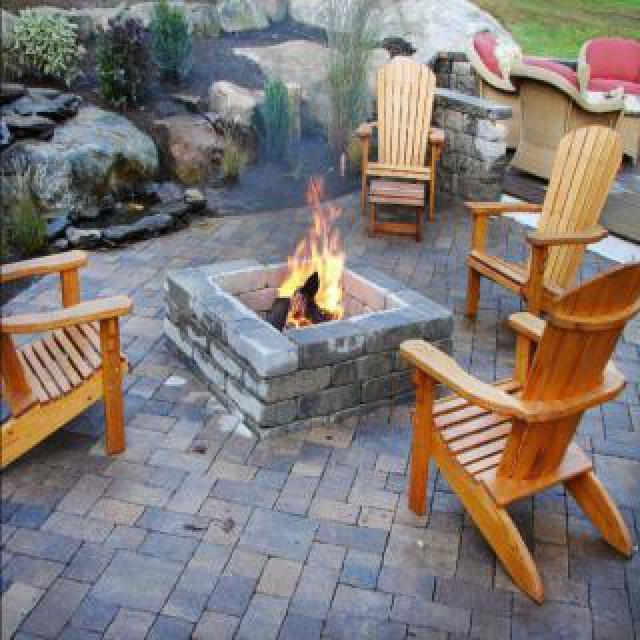Fire: (282, 206, 340, 320)
